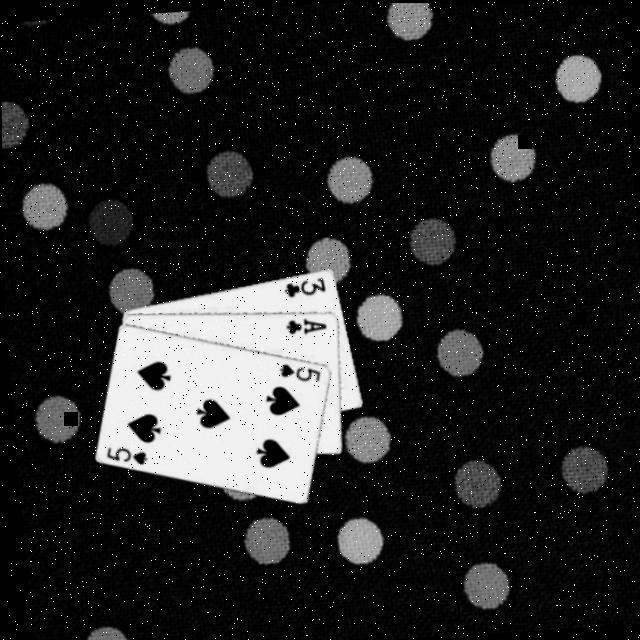3C: (277, 271, 327, 298)
5S: (272, 355, 321, 384), (99, 439, 147, 468)
AC: (279, 310, 326, 335)
